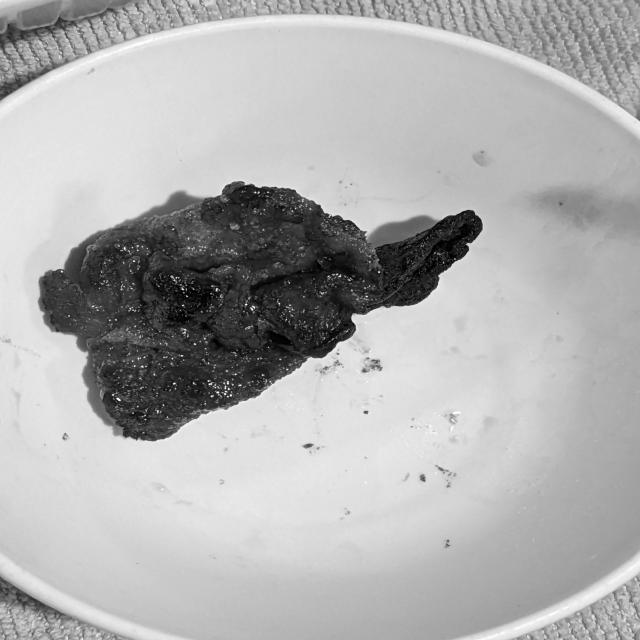overcooked pork: (33, 179, 498, 451)
